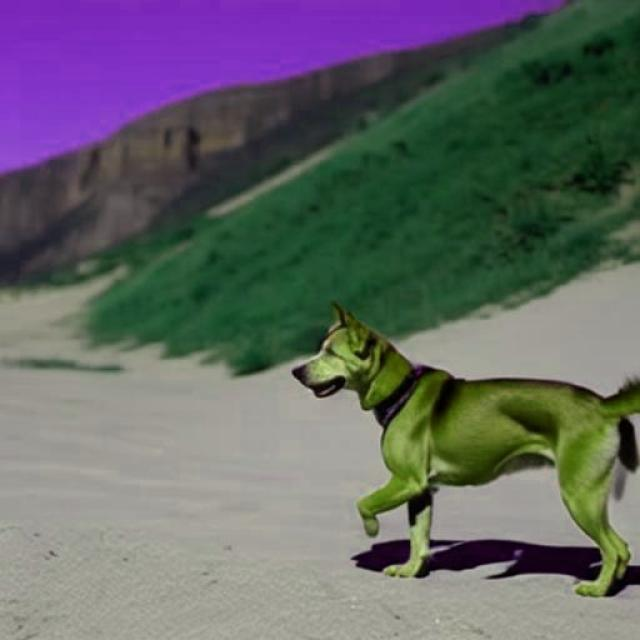Dog: (292, 303, 640, 596)
